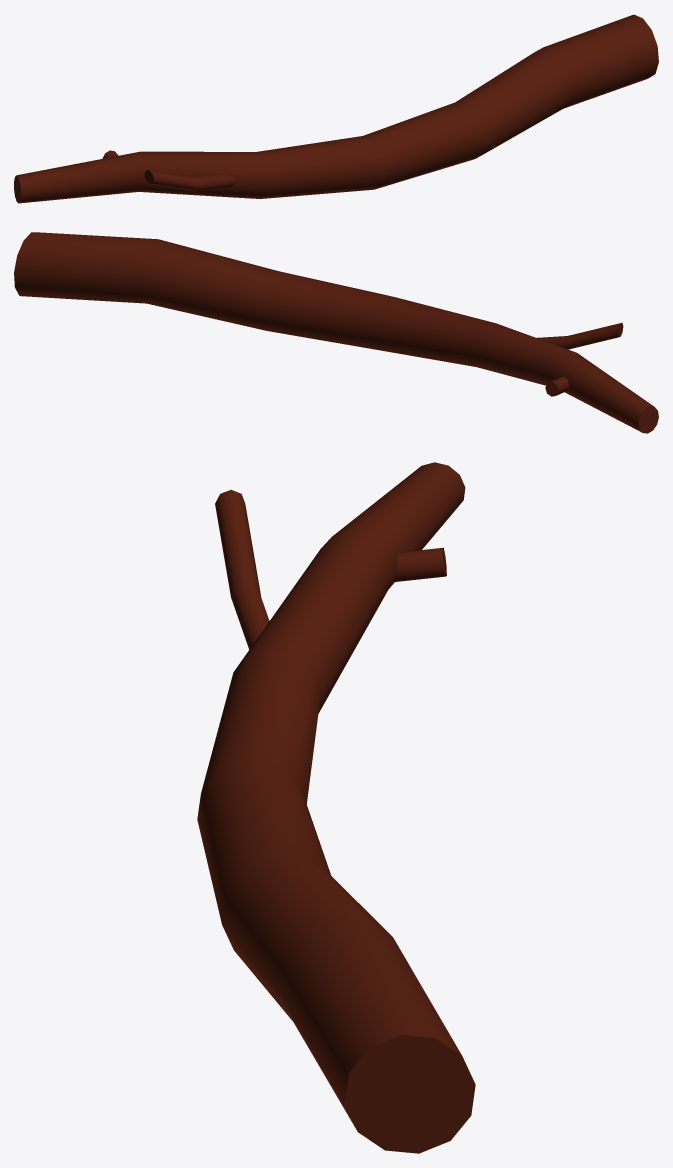
3 renders of one model, top to bottom at view 1: azimuth 30°, elevation 25°; view 2: azimuth 150°, elevation 25°; view 3: azimuth 270°, elevation 25°, orthographic. The views are drawn at different scales.
Parts seen in each view (by area): view 1: root_08; view 2: root_08; view 3: root_08.
Part boxes in pixels (<box>): root_08: <box>14,14,658,203</box>; root_08: <box>14,232,658,433</box>; root_08: <box>197,462,475,1153</box>.
Bounding box in the file's own units: 241 × 28.54 × 46.71.
